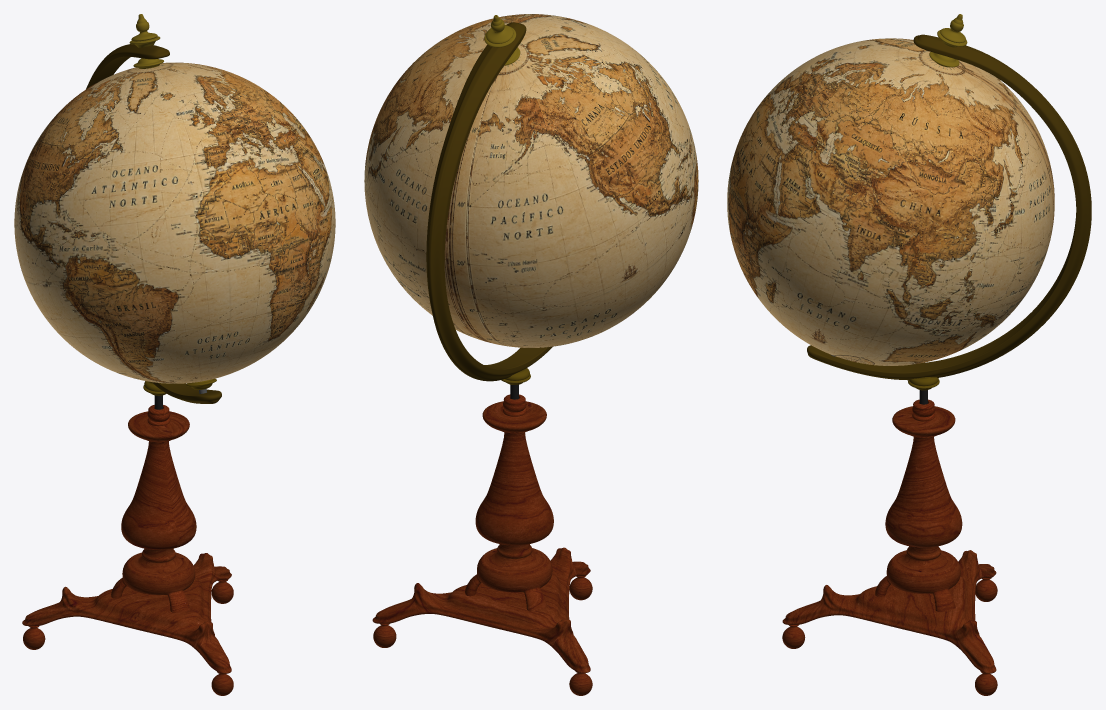
File: earth_globe.glb
3 renders of one model, left to right at view 1: azimuth 30°, elevation 25°; view 2: azimuth 150°, elevation 25°; view 3: azimuth 270°, elevation 25°, orthographic. The views are drawn at different scales.
Visible parts, largest first — view 1: PM3D_Sphere3D1, body, tmp, tmp5, tmp2, tmp8; view 2: PM3D_Sphere3D1, body, tmp5, tmp, tmp2, tmp8; view 3: PM3D_Sphere3D1, body, tmp5, tmp, tmp2, tmp8.
Part boxes in pixels (<box>): PM3D_Sphere3D1: <box>14,62,335,383</box>; body: <box>111,405,196,612</box>; tmp: <box>22,553,231,673</box>; tmp5: <box>86,44,221,403</box>; tmp2: <box>23,579,233,695</box>; tmp8: <box>129,14,160,47</box>; PM3D_Sphere3D1: <box>364,14,698,347</box>; body: <box>465,394,553,611</box>; tmp5: <box>426,22,552,381</box>; tmp: <box>372,547,590,673</box>; tmp2: <box>373,575,592,695</box>; tmp8: <box>484,15,516,47</box>; PM3D_Sphere3D1: <box>727,38,1054,365</box>; body: <box>875,399,962,611</box>; tmp5: <box>807,34,1091,380</box>; tmp: <box>782,550,996,673</box>; tmp2: <box>782,578,997,695</box>; tmp8: <box>937,14,967,47</box>.
Bounding box in the file's own units: 4.12 × 8.79 × 4.59.
12 materials, 5 textured.
